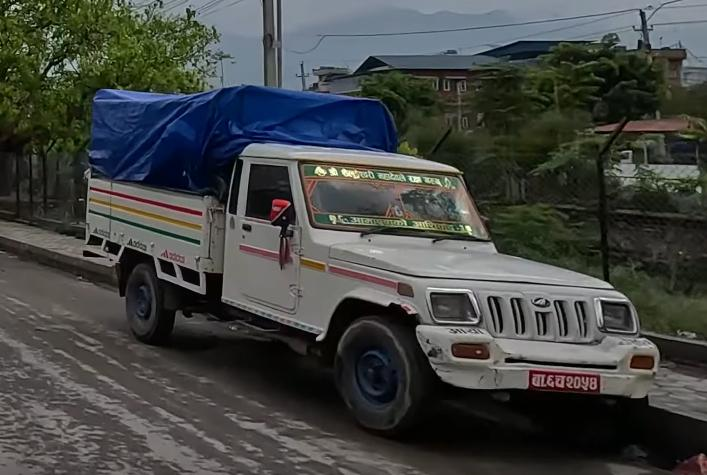transport_vehicle: (78, 69, 658, 454)
